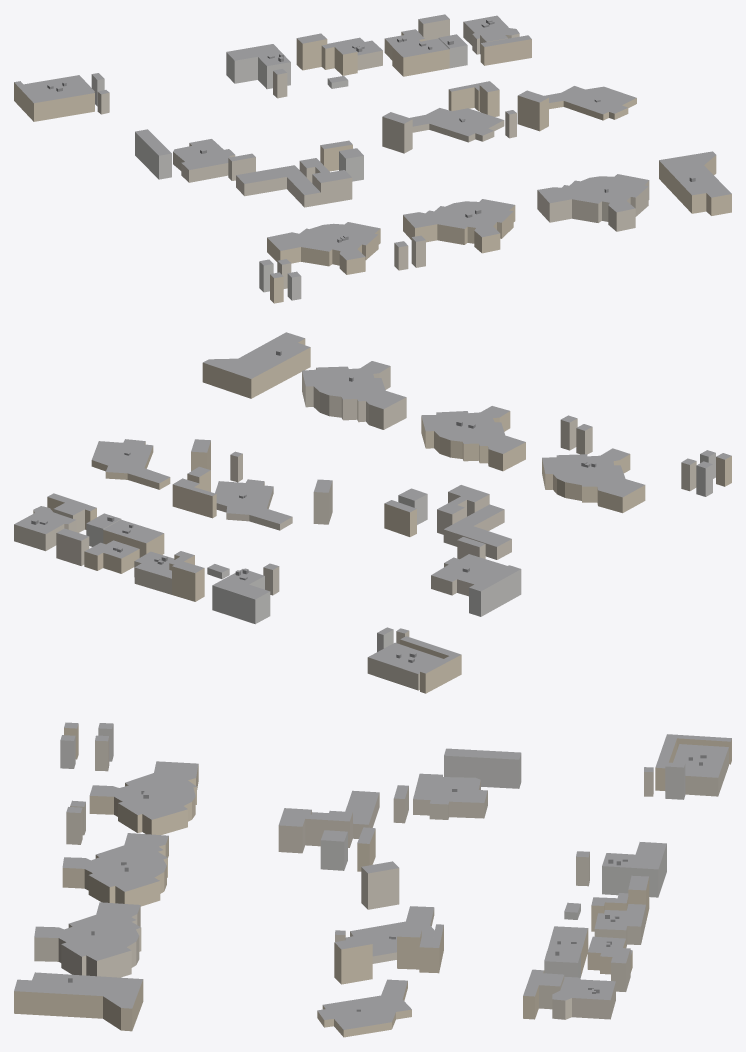
Rendered from building_4_-1.glb.
The picture shows the model from 3 angles, top to bottom: view 1: azimuth 30°, elevation 25°; view 2: azimuth 150°, elevation 25°; view 3: azimuth 270°, elevation 25°; orthographic projection. The views are drawn at different scales.
Visible parts, largest first — view 1: roof, sandstone, concrete_warm, concrete_light; view 2: roof, sandstone, concrete_warm, concrete_light; view 3: roof, sandstone, concrete_warm, concrete_light.
Boxes of the visible parts, bbox=[...] form: roof: bbox=[14, 14, 731, 278]; sandstone: bbox=[14, 32, 731, 303]; concrete_warm: bbox=[94, 19, 649, 288]; concrete_light: bbox=[91, 38, 467, 300]; roof: bbox=[14, 332, 731, 673]; sandstone: bbox=[47, 339, 731, 693]; concrete_warm: bbox=[14, 366, 696, 690]; concrete_light: bbox=[86, 453, 715, 651]; roof: bbox=[14, 722, 731, 1029]; sandstone: bbox=[14, 724, 731, 1037]; concrete_warm: bbox=[34, 736, 728, 1019]; concrete_light: bbox=[60, 724, 685, 978].
Bounding box in the file's own units: 260 × 15.54 × 278.
